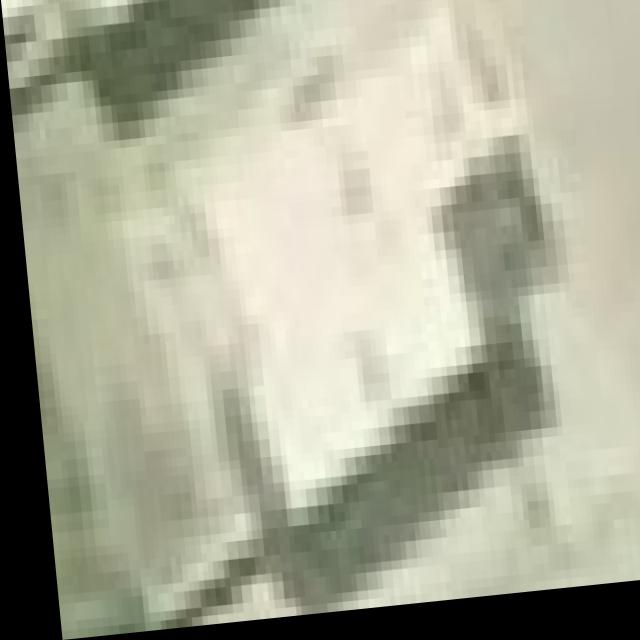Batiment: (165, 0, 485, 522)
